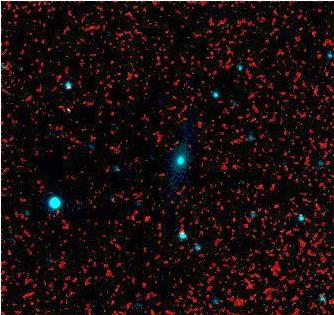star: (50, 95, 80, 125)
